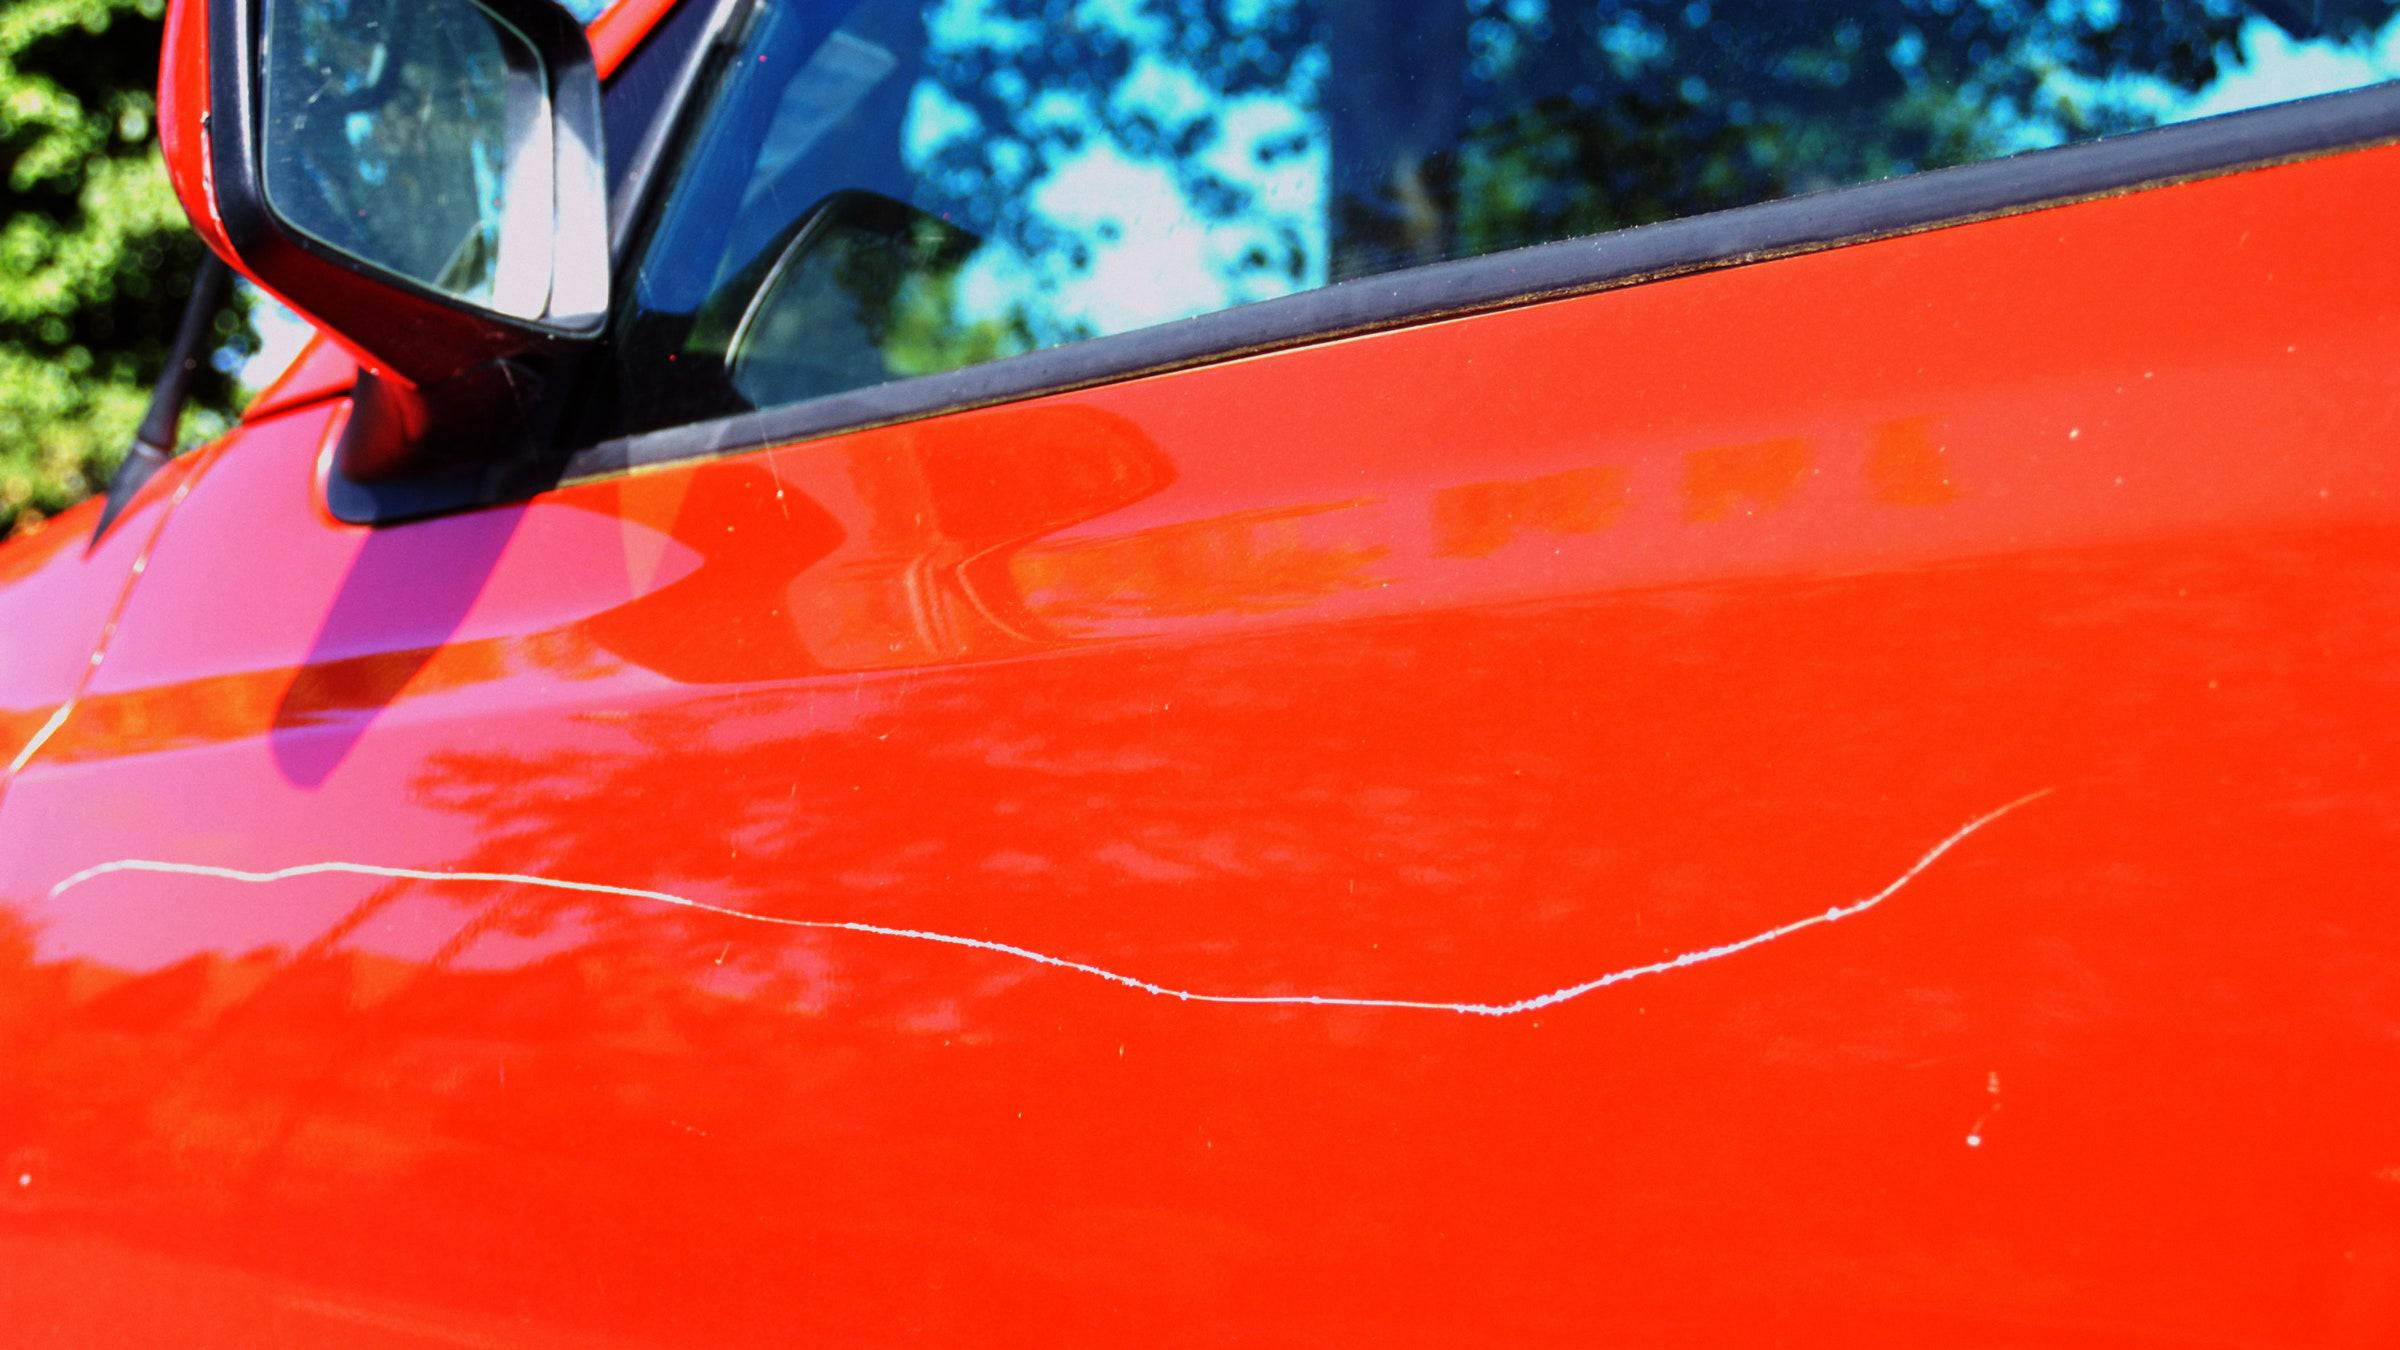doorouter-dent: (209, 236, 2382, 1348)
